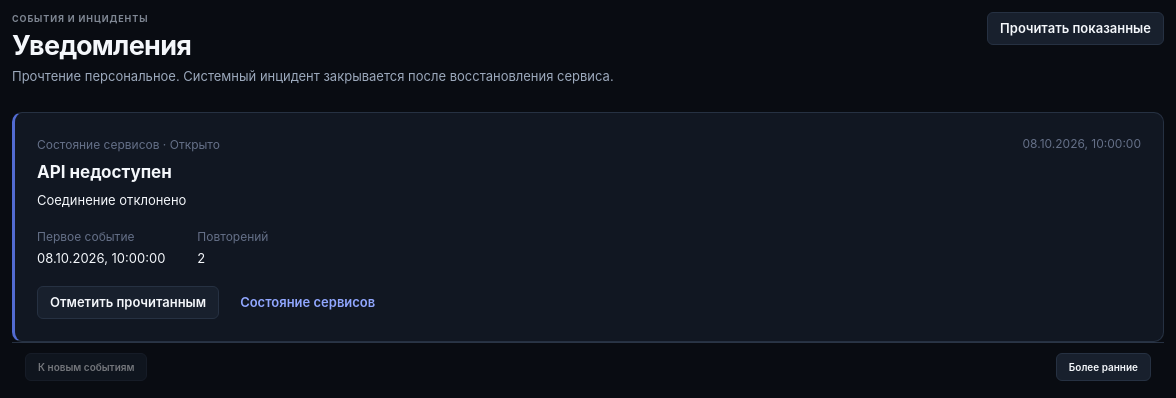
Test case: notification history actions › clears old action targets while loading an earlier history page
Expected: the heading "API недоступен" is shown, [37,162,172,182]
Click the button "Более ранние".
click(1103, 367)  # box [1056,353,1151,381]
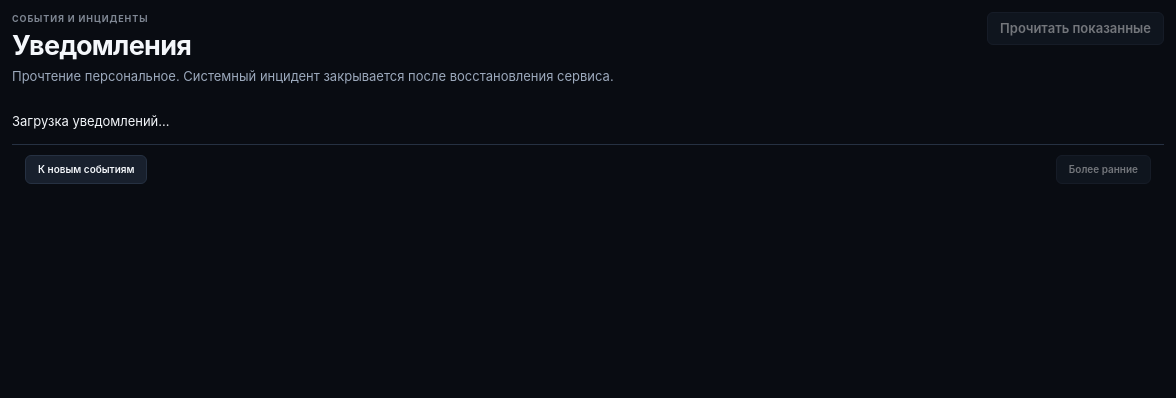
Result: the heading "API недоступен" is gone
Result: the button "Прочитать показанные" is disabled at [987,12,1164,45]
